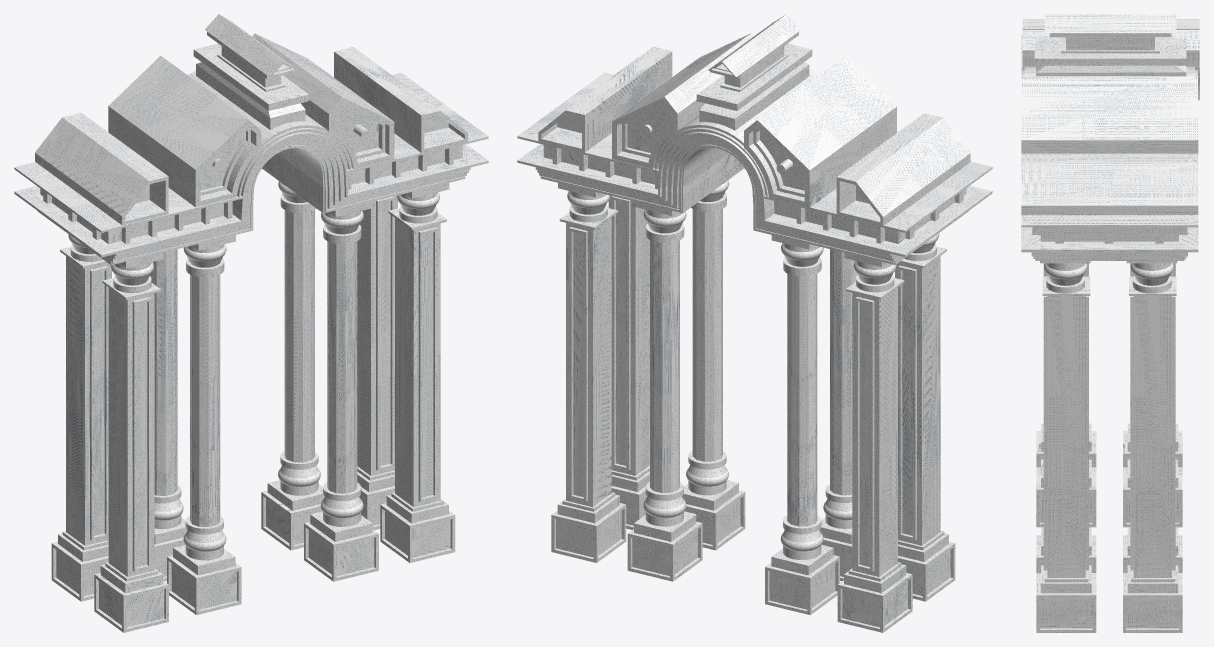
3 views of the same model, side by side, from view 1: azimuth 30°, elevation 25°; view 2: azimuth 150°, elevation 25°; view 3: azimuth 270°, elevation 25° (orthographic).
Parts seen in each view (by area): view 1: group_35 (×14), group_39 (×4), group_27 (×3), Component_2 (×6), Component_1 (×4), Component_3 (×6), group_36 (×6), group_22 (×2), group_38 (×7), group_37 (×2), group_34 (×2); view 2: group_35 (×14), group_39 (×4), group_27 (×3), Component_2 (×6), Component_1 (×4), group_36 (×6), Component_3 (×6), group_22 (×2), group_38 (×7), group_37 (×2), group_34 (×2); view 3: group_35 (×10), Component_2 (×2), Component_1 (×2), group_22 (×3), group_27, group_36 (×6), Component_3 (×5), group_34 (×2), group_33, group_4.
Part boxes in pixels (box(x1,y1,x2,y2)): group_35 (×14): box(60, 195, 448, 593); group_39 (×4): box(150, 210, 357, 527); group_27 (×3): box(14, 70, 488, 265); Component_2 (×6): box(108, 33, 394, 207); Component_1 (×4): box(35, 47, 467, 225); Component_3 (×6): box(167, 490, 378, 615); group_36 (×6): box(51, 503, 455, 632); group_22 (×2): box(193, 14, 308, 129); group_38 (×7): box(154, 465, 372, 575); group_37 (×2): box(183, 211, 363, 267); group_34 (×2): box(111, 192, 439, 285); group_35 (×14): box(557, 195, 946, 593); group_39 (×4): box(650, 209, 857, 526); group_27 (×3): box(517, 70, 992, 264); Component_2 (×6): box(612, 33, 896, 207); Component_1 (×4): box(538, 46, 970, 225); group_36 (×6): box(551, 503, 955, 632); Component_3 (×6): box(627, 490, 839, 615); group_22 (×2): box(696, 14, 812, 130); group_38 (×7): box(634, 465, 852, 575); group_37 (×2): box(643, 209, 823, 266); group_34 (×2): box(567, 191, 896, 284); group_35 (×10): box(1041, 276, 1178, 593); Component_2 (×2): box(1021, 30, 1199, 153); Component_1 (×2): box(1021, 19, 1199, 214); group_22 (×3): box(1034, 14, 1186, 76); group_27: box(1021, 33, 1198, 260); group_36 (×6): box(1036, 431, 1182, 632); Component_3 (×5): box(1036, 467, 1182, 572); group_34 (×2): box(1044, 263, 1173, 285); group_33: box(1132, 276, 1171, 293); group_4: box(1046, 276, 1084, 293).
Bounding box in the file's own units: 394 × 155 × 513.
